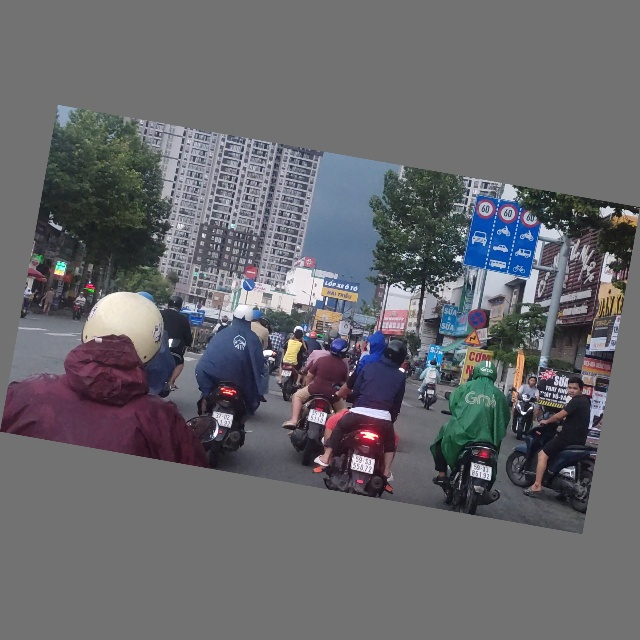P.102: (244, 266, 259, 280)
P.127*60: (497, 203, 519, 226), (519, 209, 542, 230), (475, 198, 496, 220)
P.130: (466, 308, 490, 330)
R.302a: (241, 278, 256, 293)
R.415a: (462, 218, 538, 279)
W.202b: (463, 328, 484, 348)
